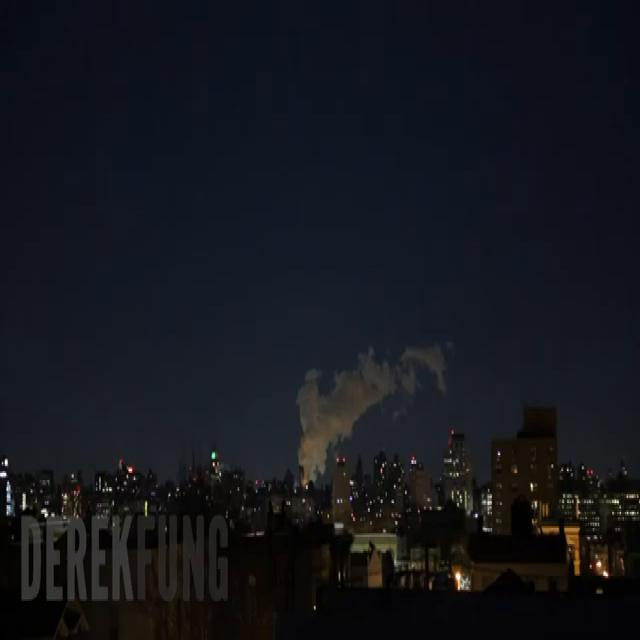smoke: (296, 348, 426, 480)
